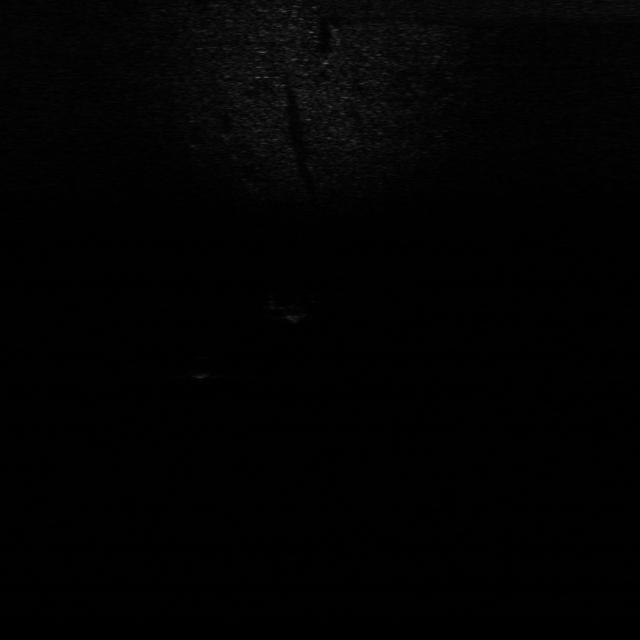ball: (183, 355, 218, 378)
human body: (254, 293, 324, 327)
